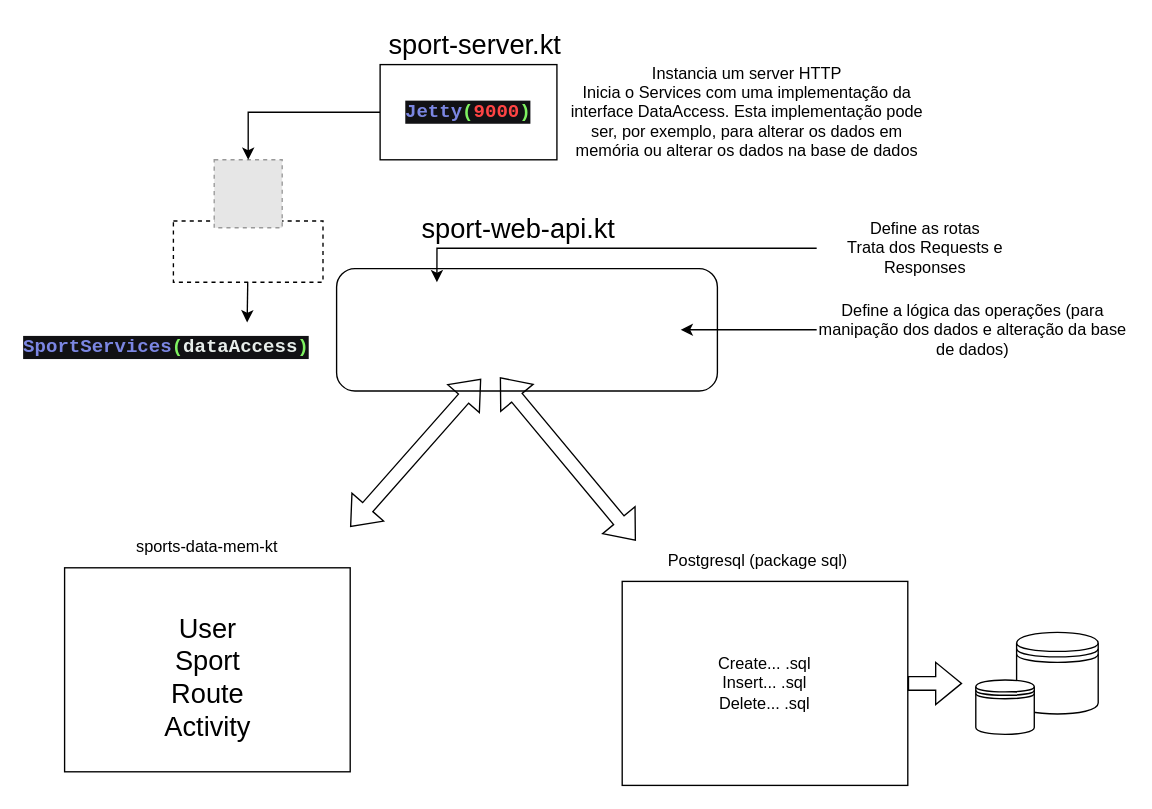
The diagram is 1152 pixels wide and 809 high, and some of its shapes have lost their labels. Grey dashed boxes stand in for pictures. Here are the shapes that lost their labels. From the top down, the centre of each, then its label:
At (x=247, y=251): "DataAccess".
At (x=526, y=329): "SportsWebApi ( val services: SportServices )".
